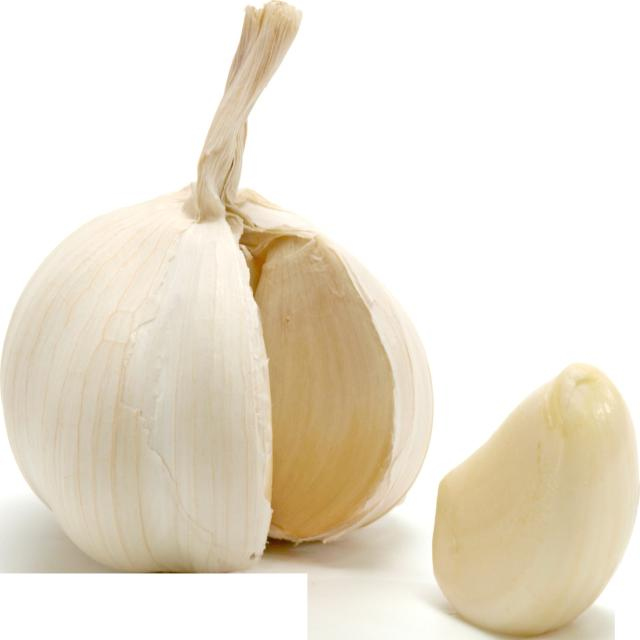garlic: (3, 161, 435, 596)
